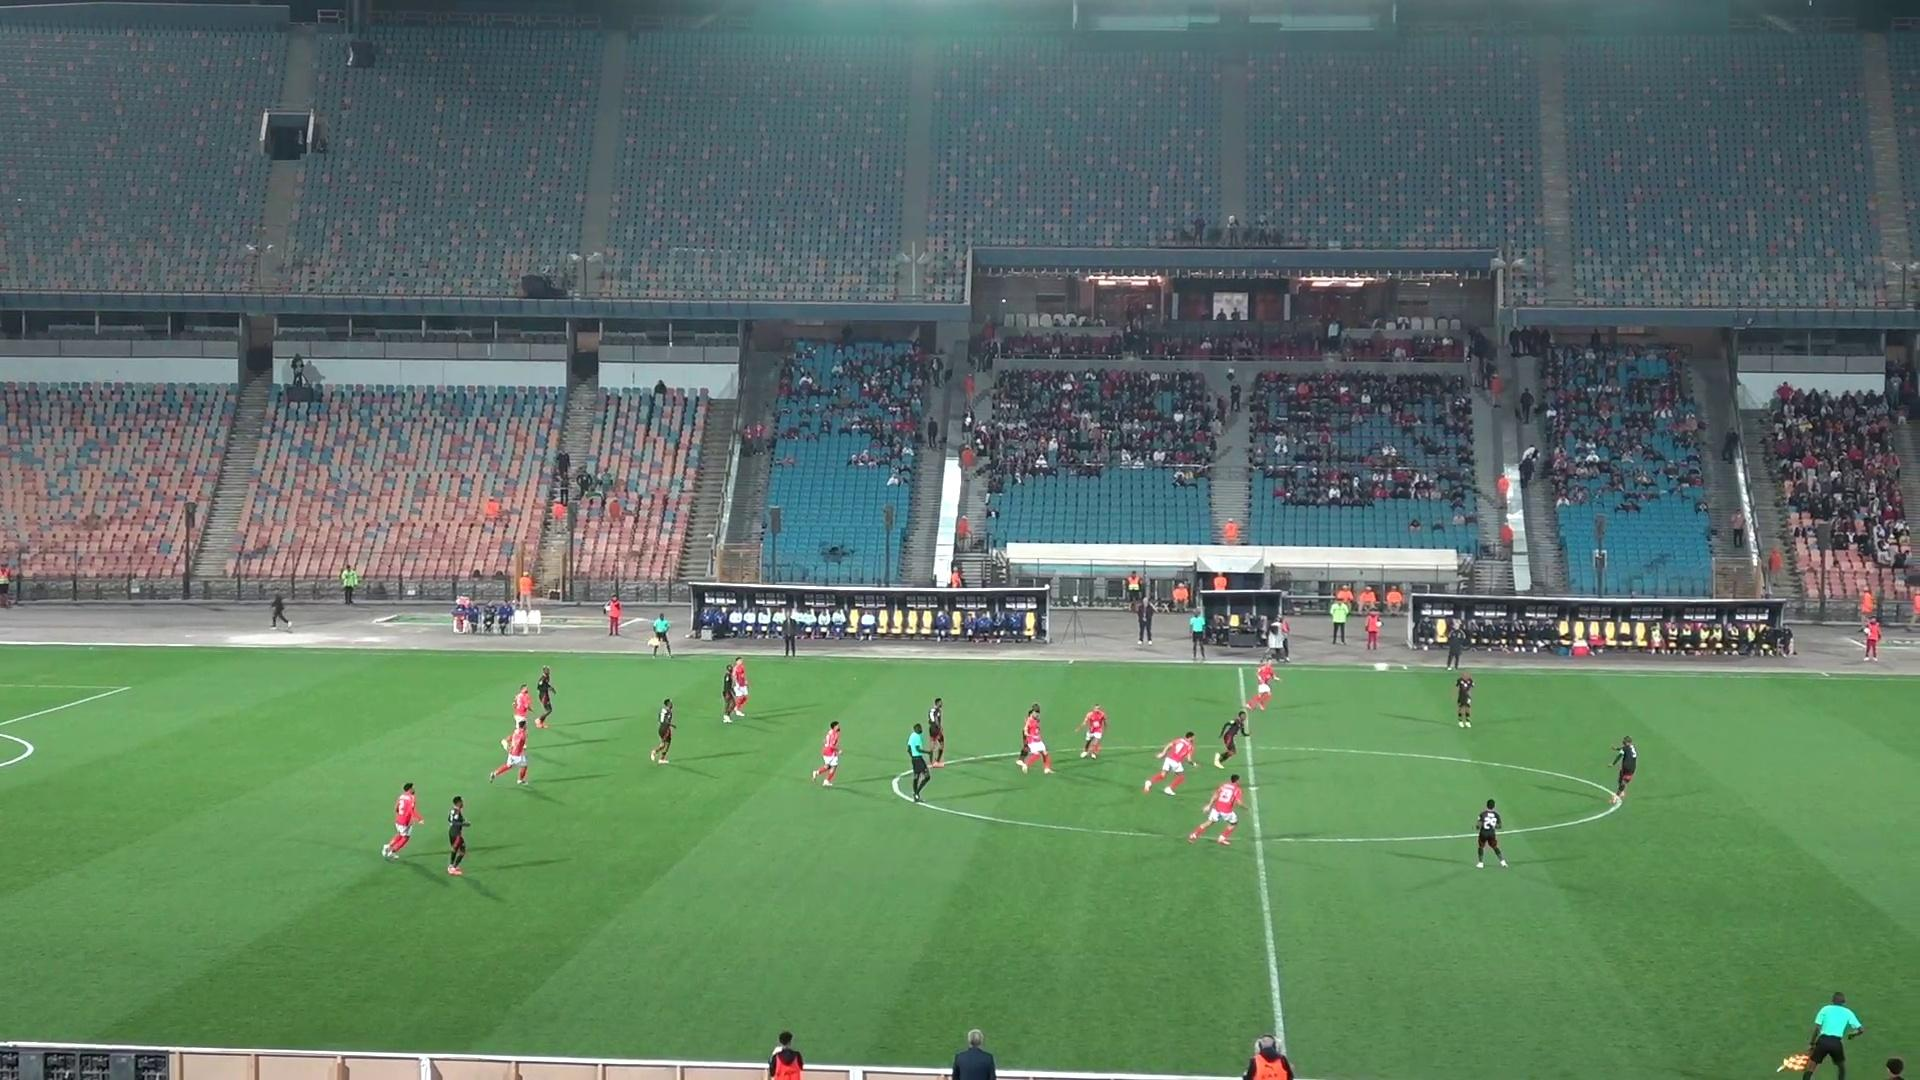Refree: (1779, 992, 1865, 1079), (891, 723, 936, 802), (1188, 605, 1211, 661), (646, 613, 673, 655)
Team1: (1188, 775, 1244, 845), (381, 782, 425, 858), (1143, 731, 1193, 795), (1015, 704, 1054, 773), (489, 719, 529, 785), (808, 720, 840, 787), (1238, 659, 1280, 709), (723, 655, 750, 723), (1079, 705, 1106, 760), (513, 684, 531, 727)
Team2: (713, 663, 754, 723), (1211, 709, 1250, 767), (1474, 799, 1507, 868), (916, 698, 947, 767), (446, 796, 471, 876), (647, 698, 676, 765), (1610, 736, 1639, 803), (1448, 670, 1476, 728), (531, 669, 555, 728), (1884, 1056, 1905, 1079)
